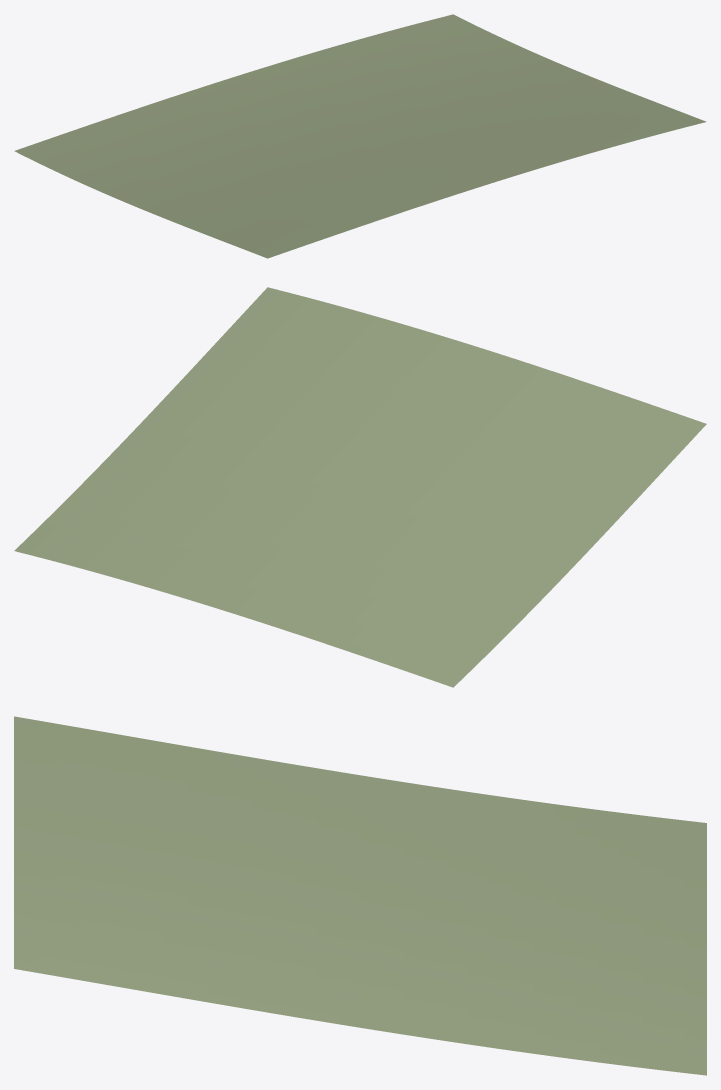
File: valley-10-13.glb
The picture shows the model from 3 angles, top to bottom: view 1: azimuth 30°, elevation 25°; view 2: azimuth 150°, elevation 25°; view 3: azimuth 270°, elevation 25°; orthographic projection. The views are drawn at different scales.
Visible parts, largest first — view 1: valley-10-13; view 2: valley-10-13; view 3: valley-10-13.
Part boxes in pixels (left/top/right/bottom): valley-10-13: left=14, top=14, right=706, bottom=258; valley-10-13: left=14, top=287, right=706, bottom=687; valley-10-13: left=14, top=716, right=706, bottom=1075.
Bounding box in the file's own units: 256 × 59.92 × 256.
